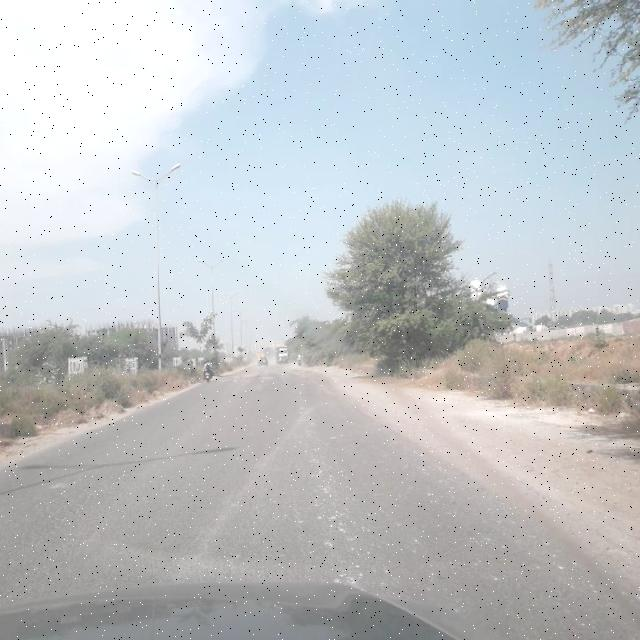D20: (1, 452, 174, 586)
